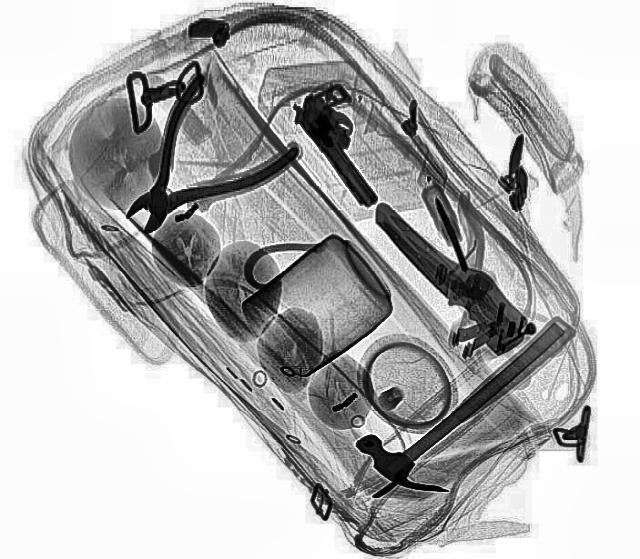Gun: (283, 78, 415, 208)
Pliers: (76, 75, 302, 259)
